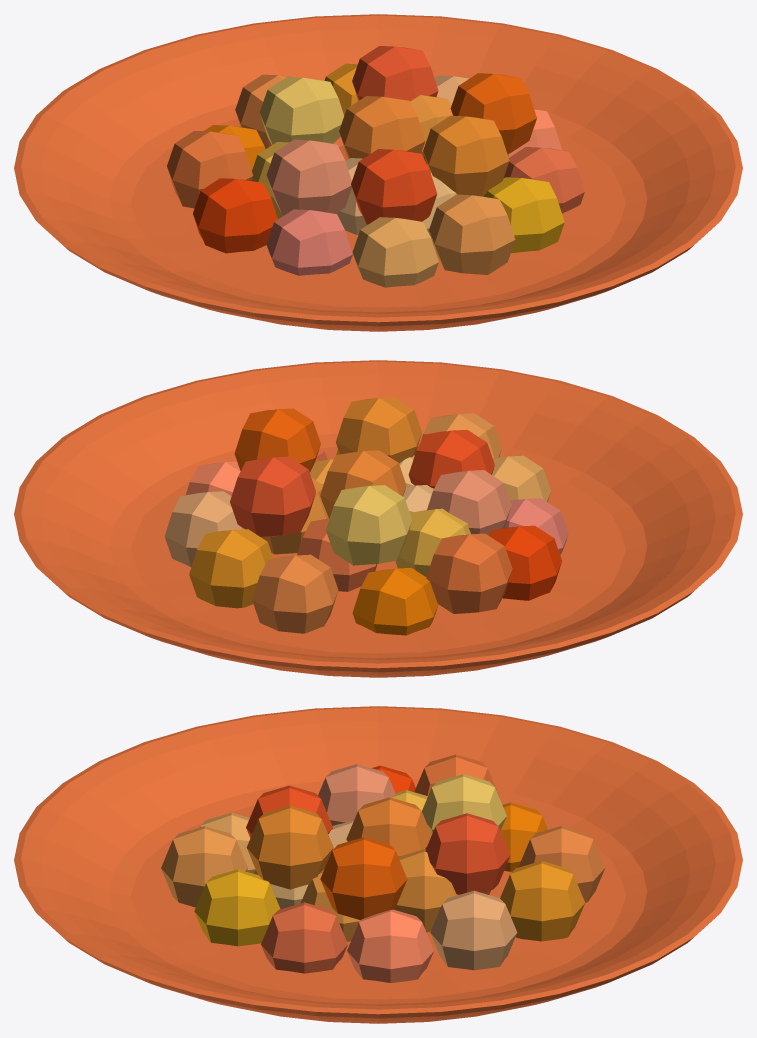
Rendered from biji biji.fbx.
The picture shows the model from 3 angles, top to bottom: view 1: azimuth 30°, elevation 25°; view 2: azimuth 150°, elevation 25°; view 3: azimuth 270°, elevation 25°; orthographic projection.
Parts seen in each view (by area): view 1: Cylinder, Cube.006, Cube.022, Cube.021, Cube.020, Cube.009, Cube.007, Cube.019, Cube.008, Cube.010, Cube.023, Cube.018 (+12 smaller); view 2: Cylinder, Cube.019, Cube.024, Cube.010, Cube, Cube.001, Cube.011, Cube.022, Cube.023, Cube.021, Cube.009, Cube.002 (+10 smaller); view 3: Cylinder, Cube.022, Cube.023, Cube.002, Cube.001, Cube.024, Cube.005, Cube.003, Cube.004, Cube.006, Cube, Cube.018 (+10 smaller).
Boxes of the visible parts, left/top/right/bottom form: Cylinder: left=14, top=14, right=742, bottom=331; Cube.006: left=429, top=194, right=515, bottom=274; Cube.022: left=423, top=115, right=509, bottom=195; Cube.021: left=266, top=139, right=351, bottom=215; Cube.020: left=351, top=149, right=437, bottom=224; Cube.009: left=193, top=178, right=277, bottom=253; Cube.007: left=352, top=217, right=438, bottom=287; Cube.019: left=259, top=77, right=343, bottom=144; Cube.008: left=266, top=209, right=352, bottom=275; Cube.010: left=167, top=131, right=253, bottom=208; Cube.023: left=450, top=73, right=536, bottom=153; Cube.018: left=339, top=96, right=425, bottom=158; Cylinder: left=14, top=360, right=742, bottom=677; Cube.019: left=326, top=485, right=412, bottom=565; Cube.024: left=230, top=456, right=316, bottom=536; Cube.010: left=426, top=533, right=512, bottom=613; Cube: left=252, top=554, right=338, bottom=633; Cube.001: left=189, top=529, right=273, bottom=608; Cube.011: left=352, top=567, right=438, bottom=635; Cube.022: left=336, top=397, right=421, bottom=463; Cube.023: left=234, top=408, right=320, bottom=472; Cube.021: left=427, top=470, right=511, bottom=535; Cube.009: left=489, top=525, right=561, bottom=600; Cube.002: left=164, top=491, right=244, bottom=566; Cylinder: left=14, top=706, right=742, bottom=1023; Cube.022: left=246, top=805, right=333, bottom=889; Cube.023: left=320, top=837, right=407, bottom=920; Cube.002: left=430, top=890, right=517, bottom=970; Cube.001: left=500, top=861, right=584, bottom=941; Cube.024: left=425, top=813, right=510, bottom=894; Cube.005: left=194, top=869, right=280, bottom=946; Cube.003: left=347, top=909, right=433, bottom=982; Cube.004: left=261, top=902, right=347, bottom=973; Cube.006: left=161, top=826, right=247, bottom=907; Cube: left=518, top=825, right=605, bottom=902; Cube.018: left=346, top=797, right=431, bottom=856.
Size of the model in its own units: 231 by 48.97 by 231.
